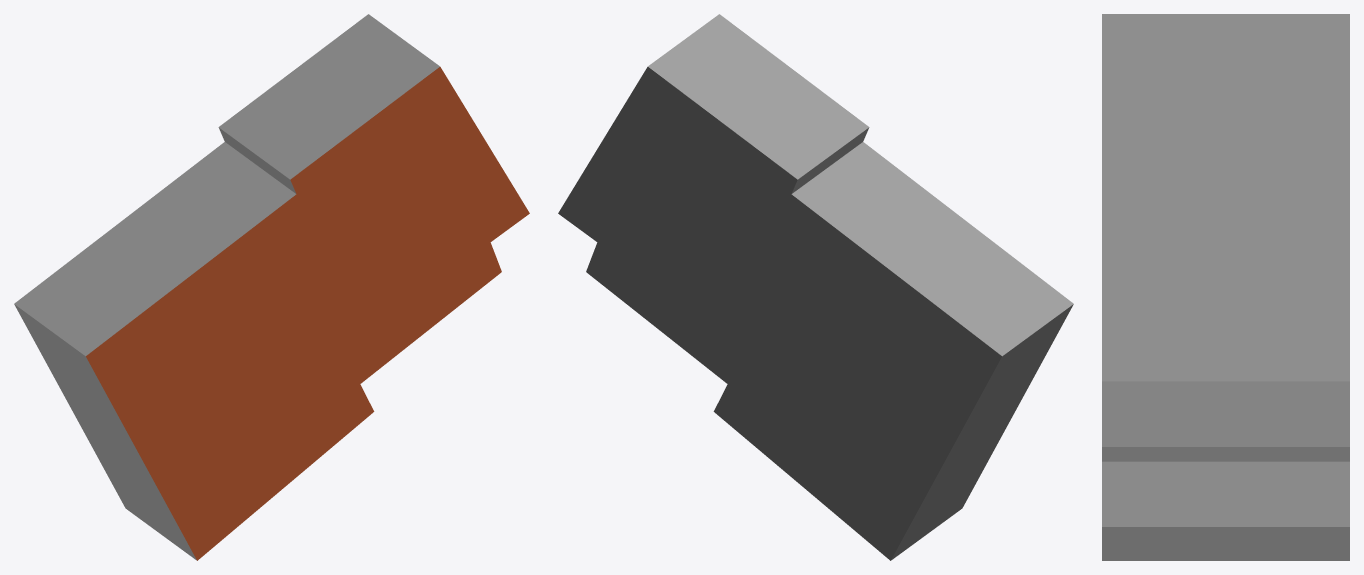
File: construction_4417_assumed_A_Casa_h6m.obj
3 renders of one model, left to right at view 1: azimuth 30°, elevation 25°; view 2: azimuth 150°, elevation 25°; view 3: azimuth 270°, elevation 25°, orthographic. The views are drawn at different scales.
Parts seen in each view (by area): view 1: construction_4417_assumed_A_Casa; view 2: construction_4417_assumed_A_Casa; view 3: construction_4417_assumed_A_Casa.
Part boxes in pixels (box(x1,y1,x2,y2)): construction_4417_assumed_A_Casa: box(14, 14, 529, 560); construction_4417_assumed_A_Casa: box(558, 14, 1073, 560); construction_4417_assumed_A_Casa: box(1102, 14, 1349, 560).
Bounding box in the file's own units: 21.45 × 20.08 × 6.
